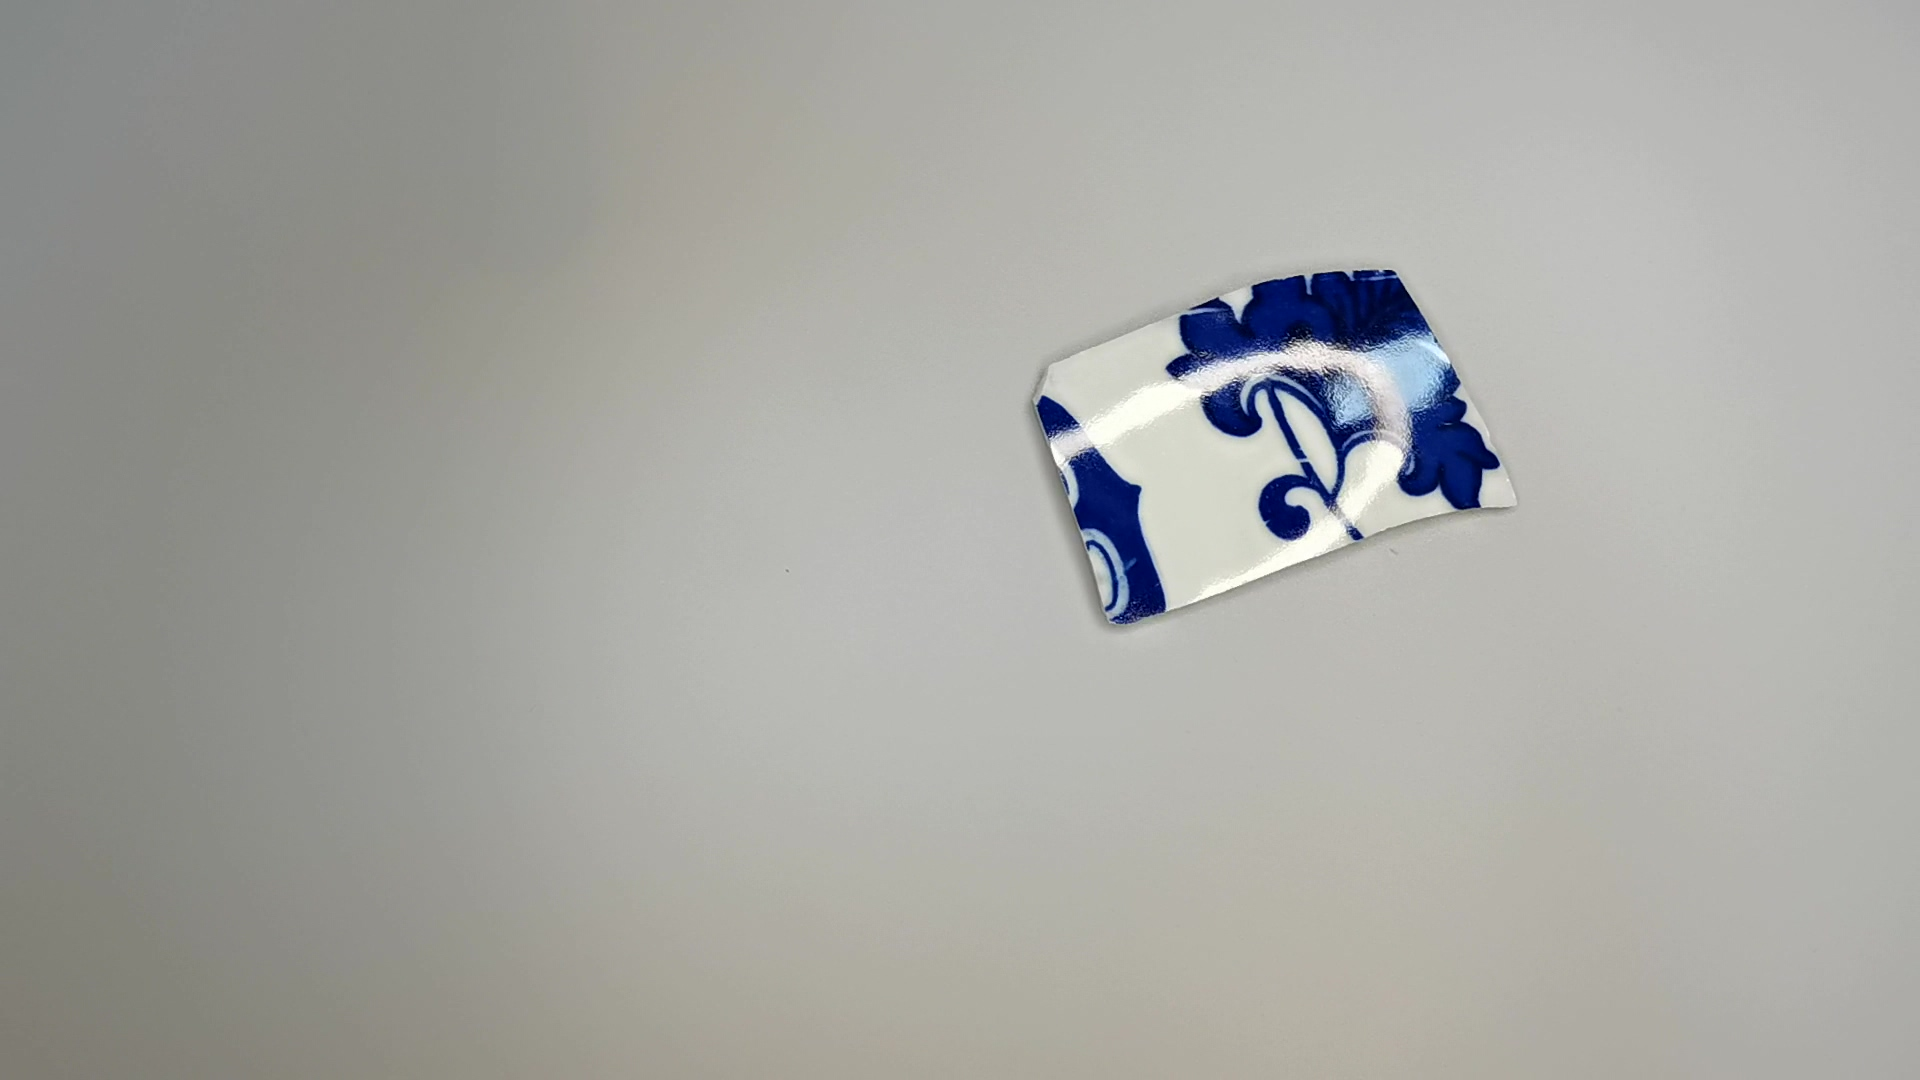ceramic: (1029, 264, 1526, 628)
